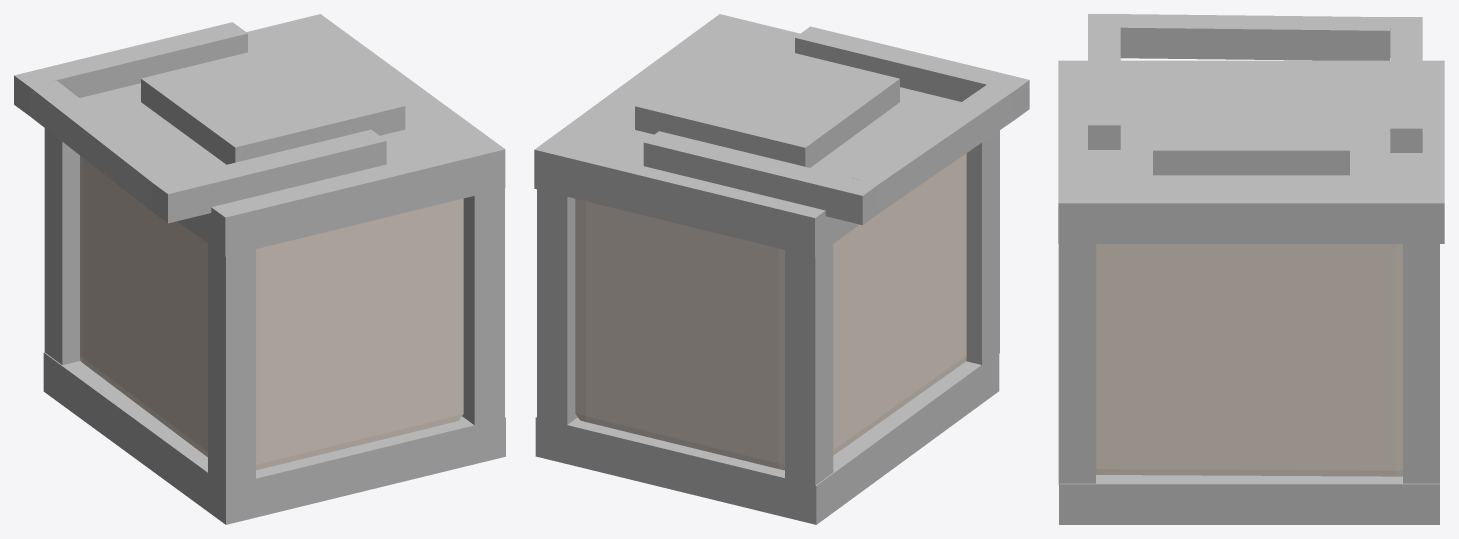
Rendered from lanturn.blend1.fbx.
3 renders of one model, left to right at view 1: azimuth 30°, elevation 25°; view 2: azimuth 150°, elevation 25°; view 3: azimuth 270°, elevation 25°, orthographic. The views are drawn at different scales.
Visible parts, largest first — view 1: clear glass, Cube.001, clear glass.002, Cube, Cube.008, Cube.002, Cube.003, Cube.009, Cube.005, Cube.010, Cube.011; view 2: clear glass.001, Cube.001, clear glass.002, Cube, Cube.008, Cube.005, Cube.010, Cube.004, Cube.011, Cube.002, Cube.009; view 3: clear glass.003, Cube.001, Cube.008, Cube, Cube.011, Cube.003, Cube.004, Cube.009, Cube.010.
Part boxes in pixels (x1,y1,x2,y2): clear glass: (256, 198, 463, 470); Cube.001: (79, 14, 505, 256); clear glass.002: (80, 155, 207, 457); Cube: (43, 352, 505, 524); Cube.008: (141, 37, 405, 164); Cube.002: (208, 244, 255, 487); Cube.003: (462, 188, 504, 426); Cube.009: (152, 129, 386, 223); Cube.005: (44, 128, 80, 364); Cube.010: (14, 22, 247, 115); Cube.011: (29, 80, 178, 211); clear glass.001: (575, 199, 784, 470); Cube.001: (534, 14, 961, 256); clear glass.002: (833, 153, 966, 455); Cube: (535, 354, 999, 524); Cube.008: (635, 37, 899, 167); Cube.005: (785, 244, 833, 486); Cube.010: (643, 131, 878, 225); Cube.004: (537, 189, 577, 426); Cube.011: (852, 84, 1013, 213); Cube.002: (966, 130, 999, 365); Cube.009: (795, 26, 1029, 120); clear glass.003: (1096, 244, 1402, 476); Cube.001: (1058, 60, 1444, 243); Cube.008: (1153, 64, 1349, 175); Cube: (1059, 475, 1439, 524); Cube.011: (1120, 14, 1390, 60); Cube.003: (1058, 244, 1095, 484); Cube.004: (1403, 244, 1439, 483); Cube.009: (1088, 14, 1120, 149); Cube.010: (1390, 17, 1422, 152).
Bounding box in the file's own units: 1740 × 1700 × 1719.
